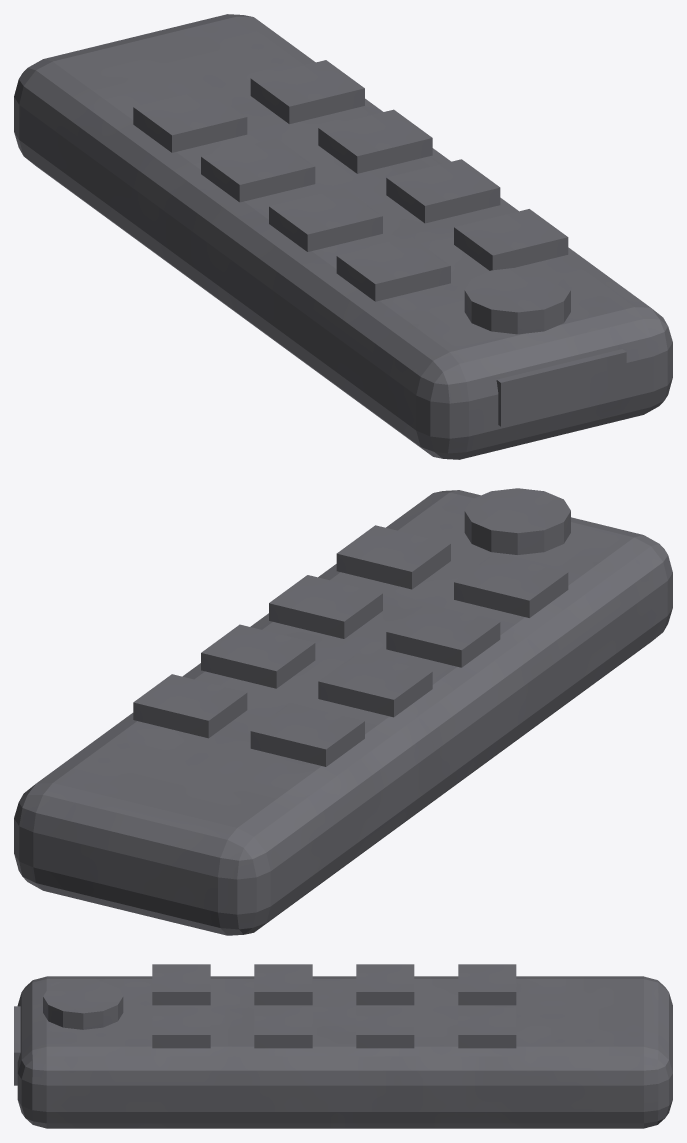
File: PRP_Remote.fbx
3 renders of one model, top to bottom at view 1: azimuth 30°, elevation 25°; view 2: azimuth 150°, elevation 25°; view 3: azimuth 270°, elevation 25°, orthographic. The views are drawn at different scales.
Parts seen in each view (by area): view 1: Remote_Body, ir, key_power, key.003, key.005, key, key.006, key.004, key.007, key.002, key.001; view 2: Remote_Body, key_power, key.001, key.002, key.004, key.005, key.007, key.006, key, key.003; view 3: Remote_Body, key_power, key, key.001, key.002, key.003, key.004, key.005, key.006, key.007, ir.
Boxes of the visible parts, bbox=[...] form: Remote_Body: bbox=[14, 14, 672, 459]; ir: bbox=[496, 349, 626, 426]; key_power: bbox=[464, 267, 570, 334]; key.003: bbox=[386, 159, 500, 223]; key.005: bbox=[318, 109, 432, 173]; key: bbox=[336, 237, 450, 301]; key.006: bbox=[133, 88, 247, 152]; key.004: bbox=[201, 138, 315, 202]; key.007: bbox=[250, 60, 364, 124]; key.002: bbox=[269, 188, 382, 251]; key.001: bbox=[454, 209, 568, 270]; Remote_Body: bbox=[14, 490, 672, 935]; key_power: bbox=[464, 488, 570, 554]; key.001: bbox=[336, 525, 450, 589]; key.002: bbox=[386, 603, 500, 667]; key.004: bbox=[318, 653, 432, 717]; key.005: bbox=[201, 624, 315, 688]; key.007: bbox=[133, 674, 247, 738]; key.006: bbox=[250, 703, 364, 766]; key: bbox=[454, 554, 568, 617]; key.003: bbox=[269, 575, 382, 638]; Remote_Body: bbox=[17, 976, 672, 1128]; key_power: bbox=[43, 979, 123, 1029]; key: bbox=[152, 964, 210, 1005]; key.001: bbox=[152, 1007, 210, 1048]; key.002: bbox=[254, 964, 312, 1005]; key.003: bbox=[254, 1007, 312, 1048]; key.004: bbox=[356, 964, 414, 1005]; key.005: bbox=[356, 1007, 414, 1048]; key.006: bbox=[458, 964, 516, 1005]; key.007: bbox=[458, 1007, 516, 1048]; ir: bbox=[14, 1006, 20, 1085].
Size of the model in its own units: 6 by 2.9 by 18.1.
